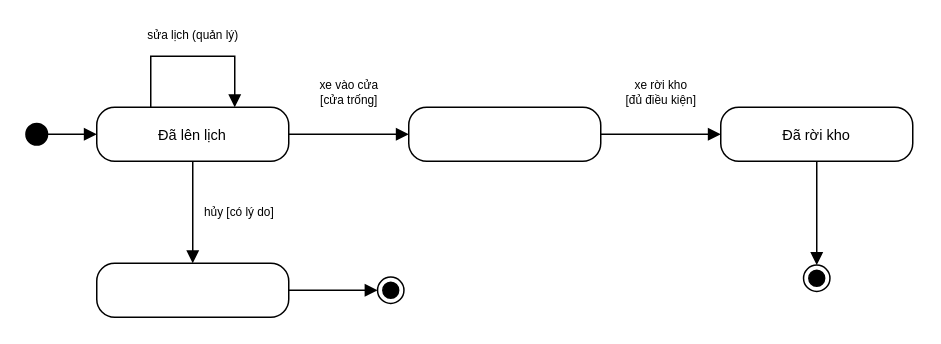
Image size: 941x344. Some labels were removed from this diagram. Each missing label, with the centre of its shape:
Đang ở cửa: the point at 504,133
Đã hủy: the point at 192,289
